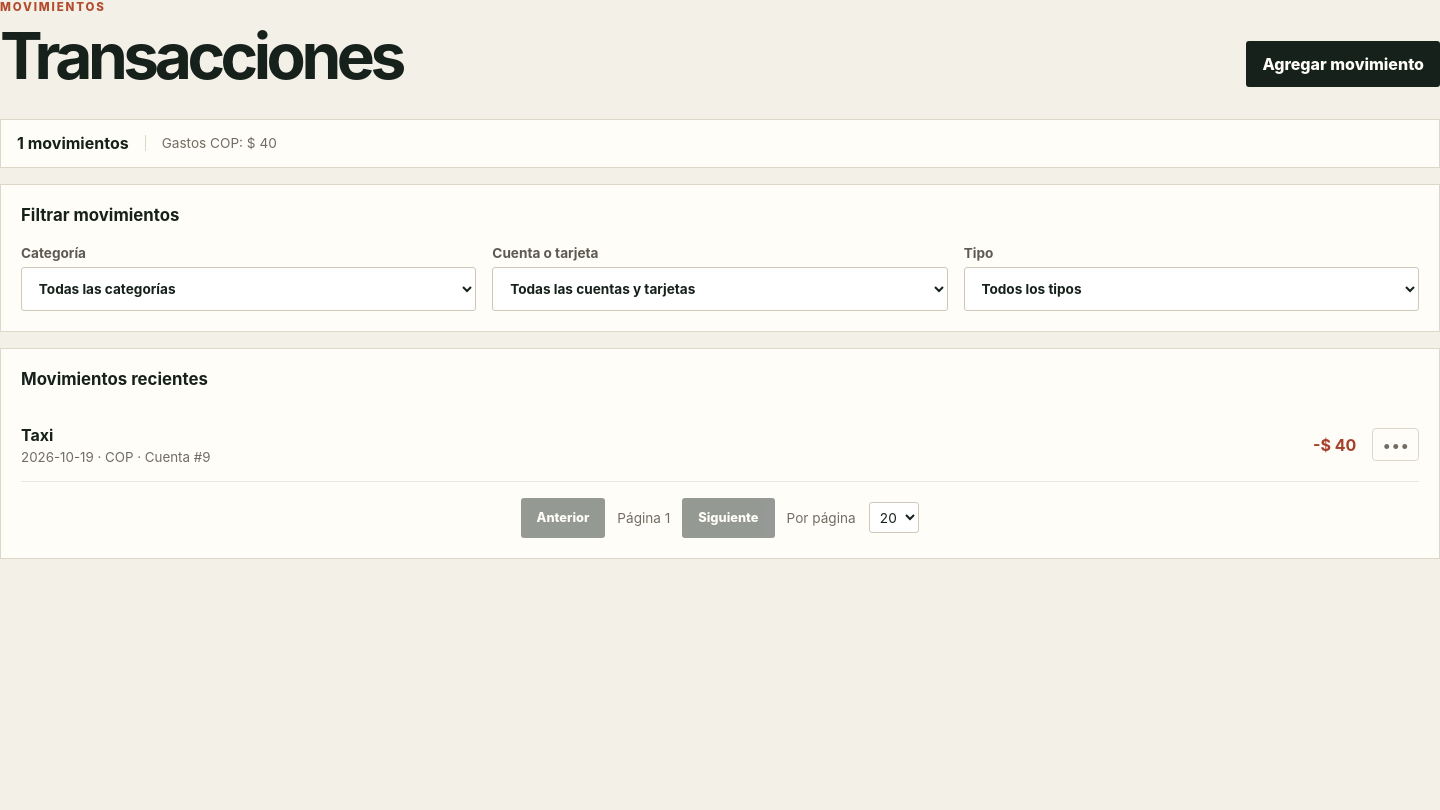
it: transaction source in details › shows the account ID when the account is not in the loaded list
Expected: the text "Taxi" is shown, [21, 425, 53, 445]
Click the heading named "Acciones" at (1396, 445), box [1372, 428, 1419, 461]
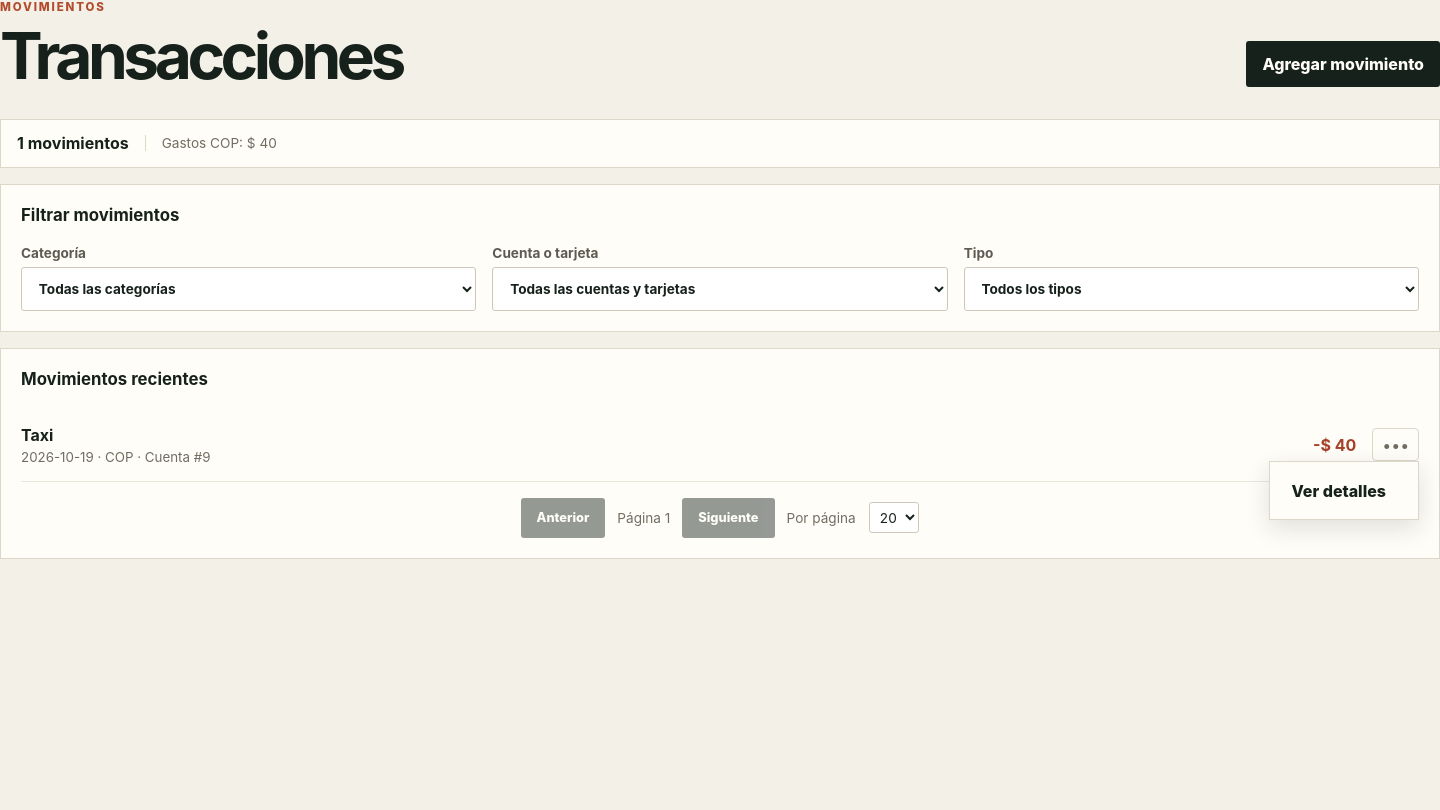
Click the button "Ver detalles" at (1344, 491), box [1276, 468, 1412, 513]
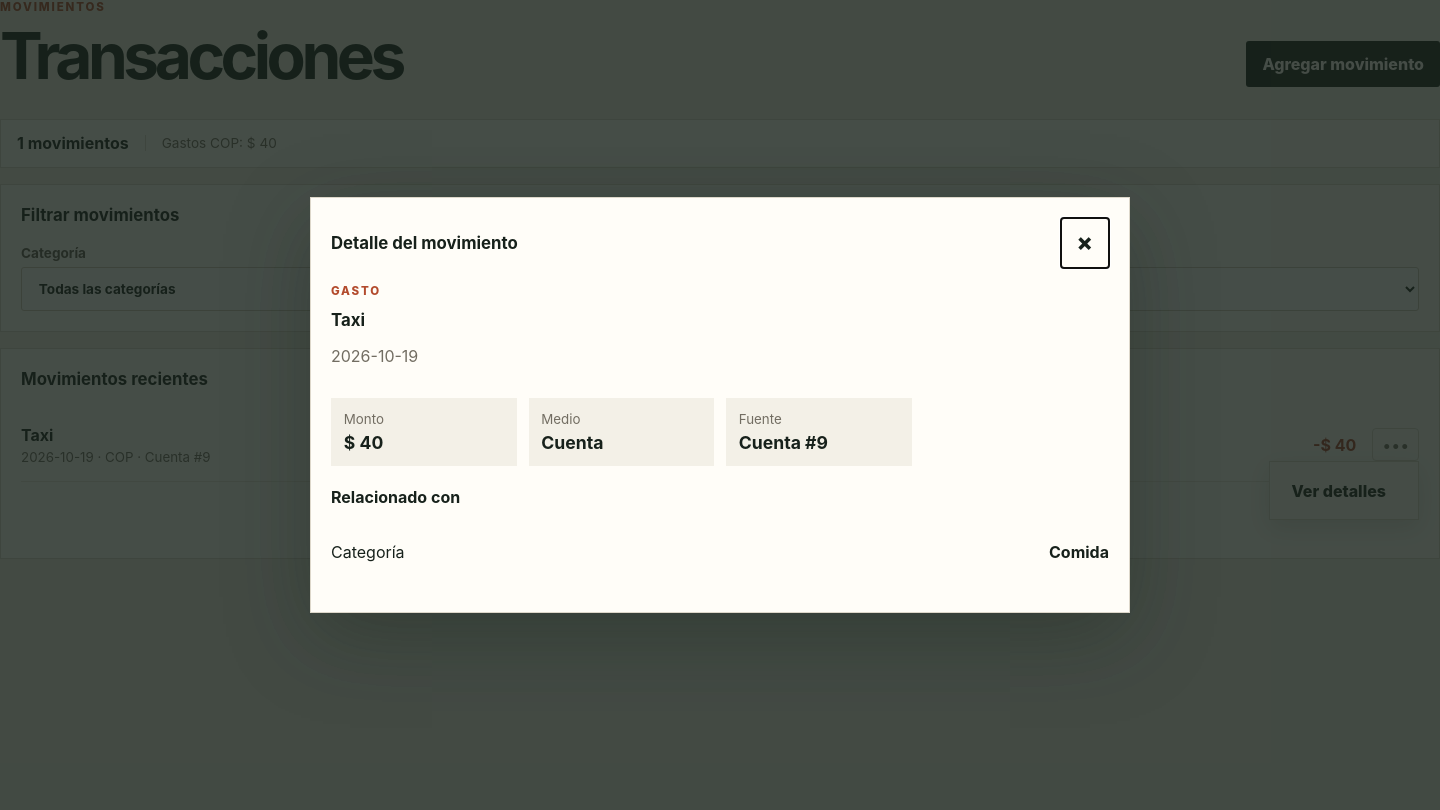
Result: the dialog shows "Cuenta #9" at [739, 432, 828, 453]
